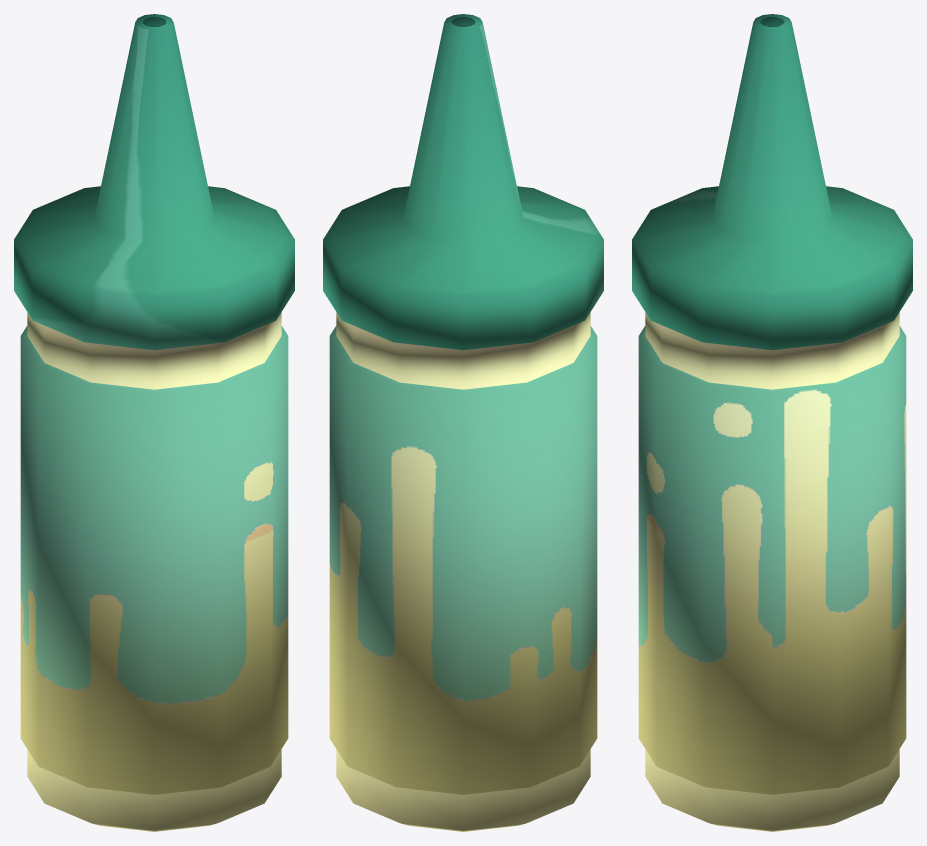
File: Oil.fbx
3 renders of one model, left to right at view 1: azimuth 30°, elevation 25°; view 2: azimuth 150°, elevation 25°; view 3: azimuth 270°, elevation 25°, orthographic.
Parts seen in each view (by area): view 1: Oil; view 2: Oil; view 3: Oil.
Boxes of the visible parts, left/top/right/bottom form: Oil: left=14, top=14, right=294, bottom=831; Oil: left=323, top=14, right=603, bottom=831; Oil: left=632, top=14, right=912, bottom=831.
Bounding box in the file's own units: 20.01 × 60.01 × 20.01.
